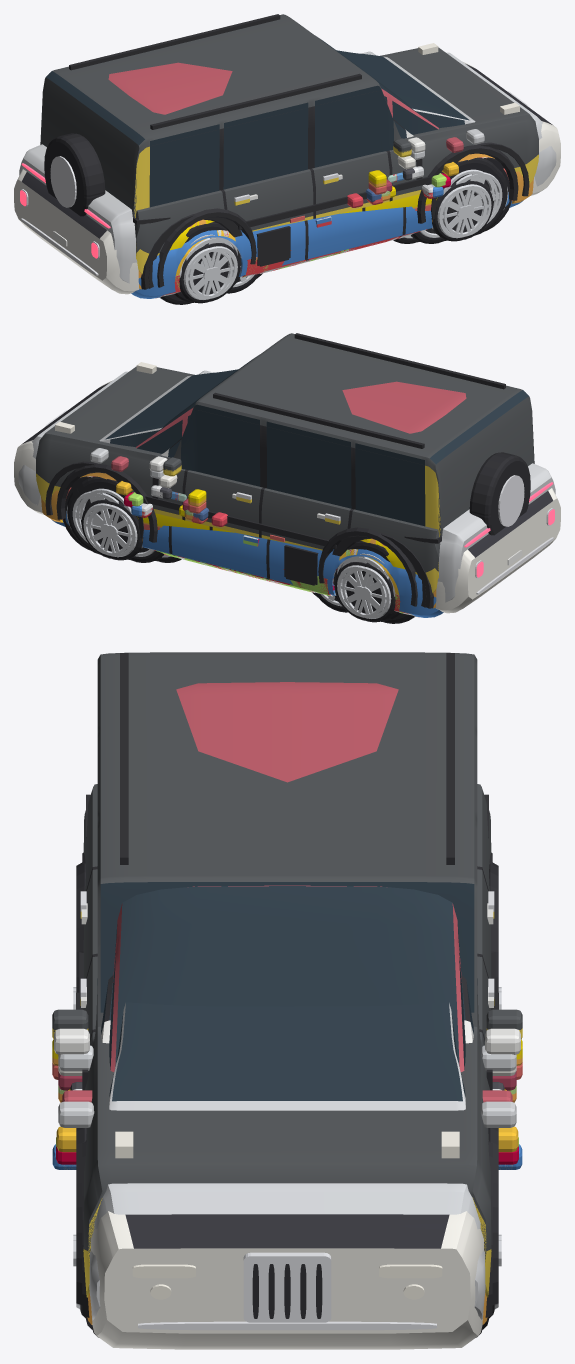
Rendered from cars_collection.fbx.
3 renders of one model, top to bottom at view 1: azimuth 30°, elevation 25°; view 2: azimuth 150°, elevation 25°; view 3: azimuth 270°, elevation 25°, orthographic. The views are drawn at different scales.
Parts seen in each view (by area): view 1: Body.012, Glass.024, Body.039, Trim.012, Body.033, Body.001, Trim.024, Body.018, Glass.018, Glass.012, Rim.039, Body.024 (+24 smaller); view 2: Body.012, Glass.024, Body.039, Trim.012, Body.033, Body.001, Trim.024, Body.018, Glass.018, Glass.012, Body.024, Rim.039 (+26 smaller); view 3: Body.012, Glass.001, Glass.018, Body.033, Body.001, Body.002, Stripe.005, Chrome.031, Body.018, Glass.012, Trim.012, Trim.024 (+7 smaller).
Part boxes in pixels (bbox=[...]): Body.012: bbox=[40, 14, 538, 253]; Glass.024: bbox=[149, 91, 388, 207]; Body.039: bbox=[131, 187, 523, 298]; Trim.012: bbox=[44, 14, 429, 229]; Body.033: bbox=[14, 61, 560, 294]; Body.001: bbox=[108, 62, 463, 227]; Trim.024: bbox=[44, 91, 518, 287]; Body.018: bbox=[19, 51, 556, 283]; Glass.018: bbox=[337, 50, 469, 128]; Glass.012: bbox=[45, 71, 393, 150]; Rim.039: bbox=[183, 184, 491, 299]; Body.024: bbox=[134, 146, 538, 274]; Body.012: bbox=[36, 333, 534, 572]; Glass.024: bbox=[186, 410, 425, 526]; Body.039: bbox=[51, 505, 443, 617]; Trim.012: bbox=[145, 333, 530, 548]; Body.033: bbox=[14, 380, 560, 613]; Body.001: bbox=[111, 381, 466, 546]; Trim.024: bbox=[56, 410, 530, 606]; Body.018: bbox=[18, 370, 555, 602]; Glass.018: bbox=[105, 369, 237, 447]; Glass.012: bbox=[181, 390, 529, 469]; Body.024: bbox=[36, 465, 440, 593]; Rim.039: bbox=[83, 503, 391, 618]; Body.012: bbox=[52, 652, 522, 1262]; Glass.001: bbox=[109, 886, 465, 1069]; Glass.018: bbox=[109, 1002, 465, 1101]; Body.033: bbox=[58, 1066, 516, 1349]; Body.001: bbox=[62, 682, 512, 1102]; Body.002: bbox=[58, 1045, 516, 1229]; Stripe.005: bbox=[125, 1214, 449, 1248]; Chrome.031: bbox=[138, 1252, 436, 1330]; Body.018: bbox=[58, 1003, 516, 1319]; Glass.012: bbox=[97, 882, 477, 1012]; Trim.012: bbox=[79, 653, 495, 1041]; Trim.024: bbox=[76, 862, 498, 1304].
Size of the model in its own units: 1773 by 669 by 784.
